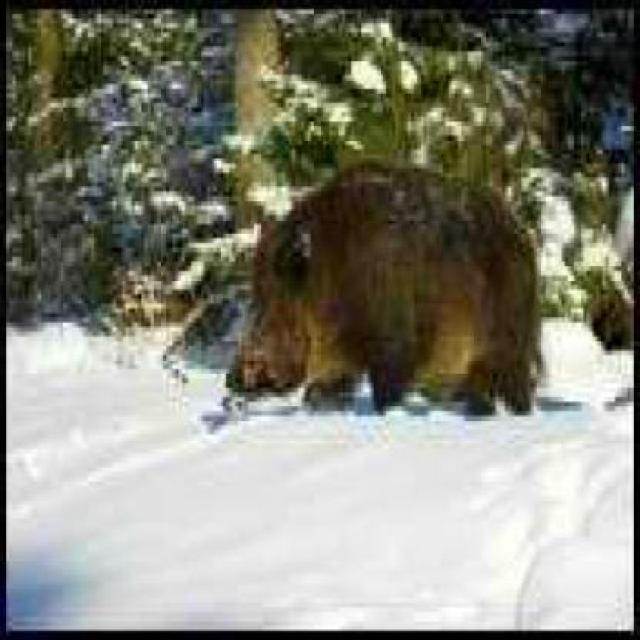Boar: (151, 152, 606, 485)
